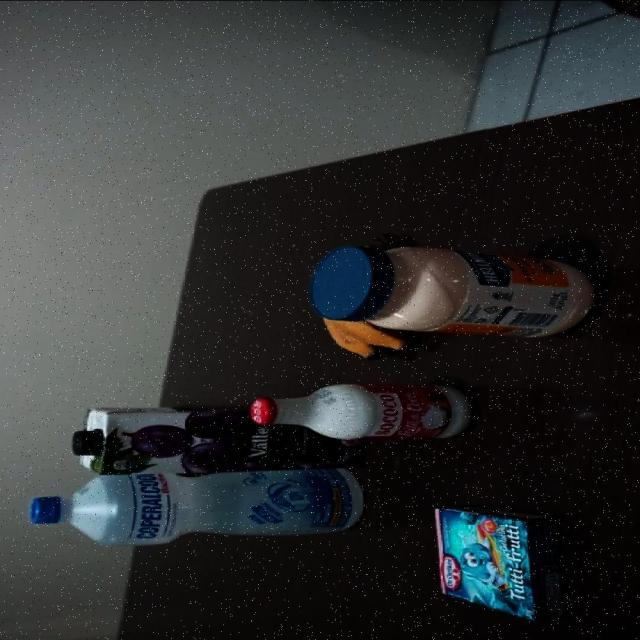AlcoholBottle: (26, 466, 362, 549)
Banana: (316, 316, 418, 364)
CoconutMilk: (248, 381, 477, 441)
Gelatine: (430, 502, 576, 624)
Mayonnaise: (307, 243, 594, 339)
